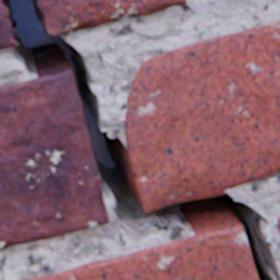brick: (124, 20, 279, 211), (0, 70, 108, 248), (22, 224, 257, 279), (276, 216, 279, 234)
broken_brick: (37, 0, 185, 35), (0, 0, 17, 48)
crack: (2, 0, 279, 279)
